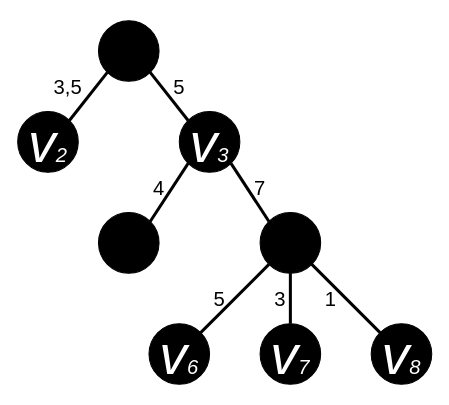
The diagram is 449 pixels wide and 405 high, and some of its shapes have lost their labels. The shapes that lost their labels are listed below. From the top down, each one's centre as x and y in pixels, then its label:
(x=128, y=50): v 1
(x=128, y=242): v 4
(x=290, y=242): v 5
